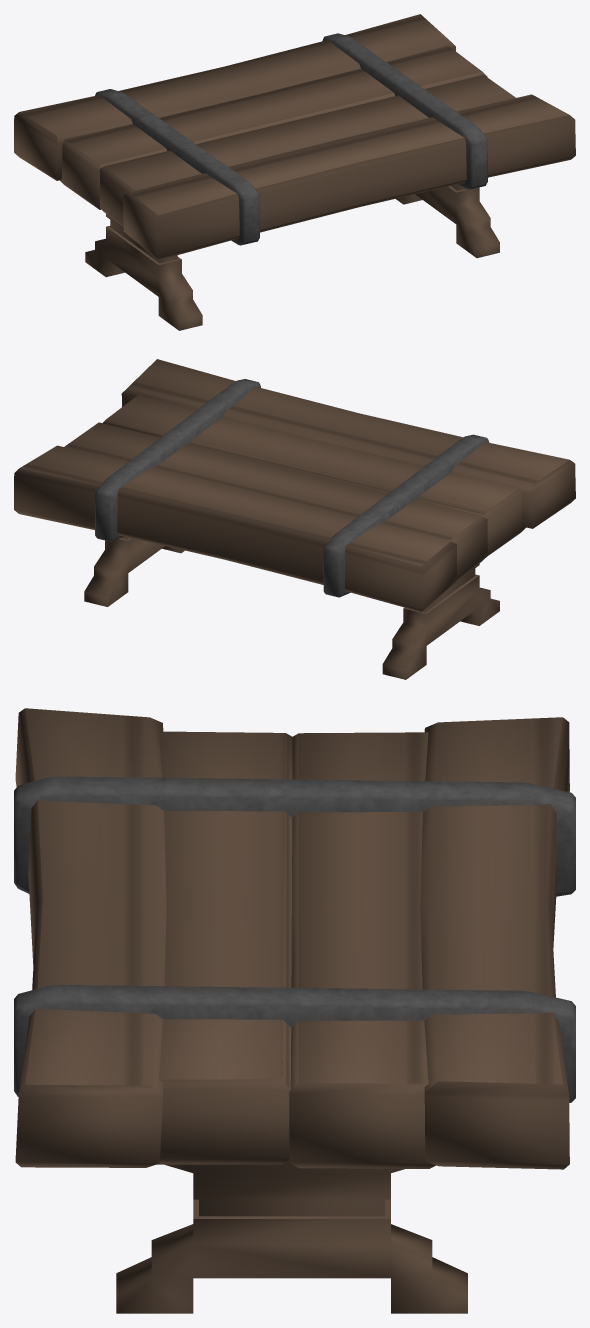
File: WoodenTable.fbx
The picture shows the model from 3 angles, top to bottom: view 1: azimuth 30°, elevation 25°; view 2: azimuth 150°, elevation 25°; view 3: azimuth 270°, elevation 25°; orthographic projection. The views are drawn at different scales.
Visible parts, largest first — view 1: WoodenTable; view 2: WoodenTable; view 3: WoodenTable.
Part boxes in pixels (box(x1,y1,x2,y2)): WoodenTable: box(14, 14, 575, 330); WoodenTable: box(14, 359, 575, 679); WoodenTable: box(14, 708, 575, 1313).
Bounding box in the file's own units: 285 × 96.85 × 177.
